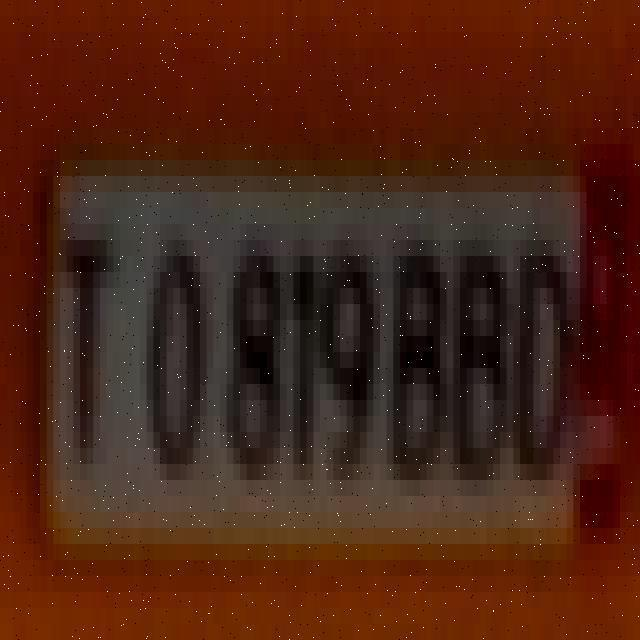LicensePlate: (23, 122, 629, 597)
